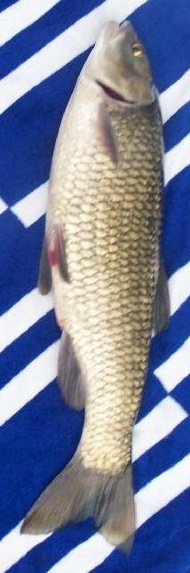Leuciscus cephalus: (20, 20, 170, 553)
